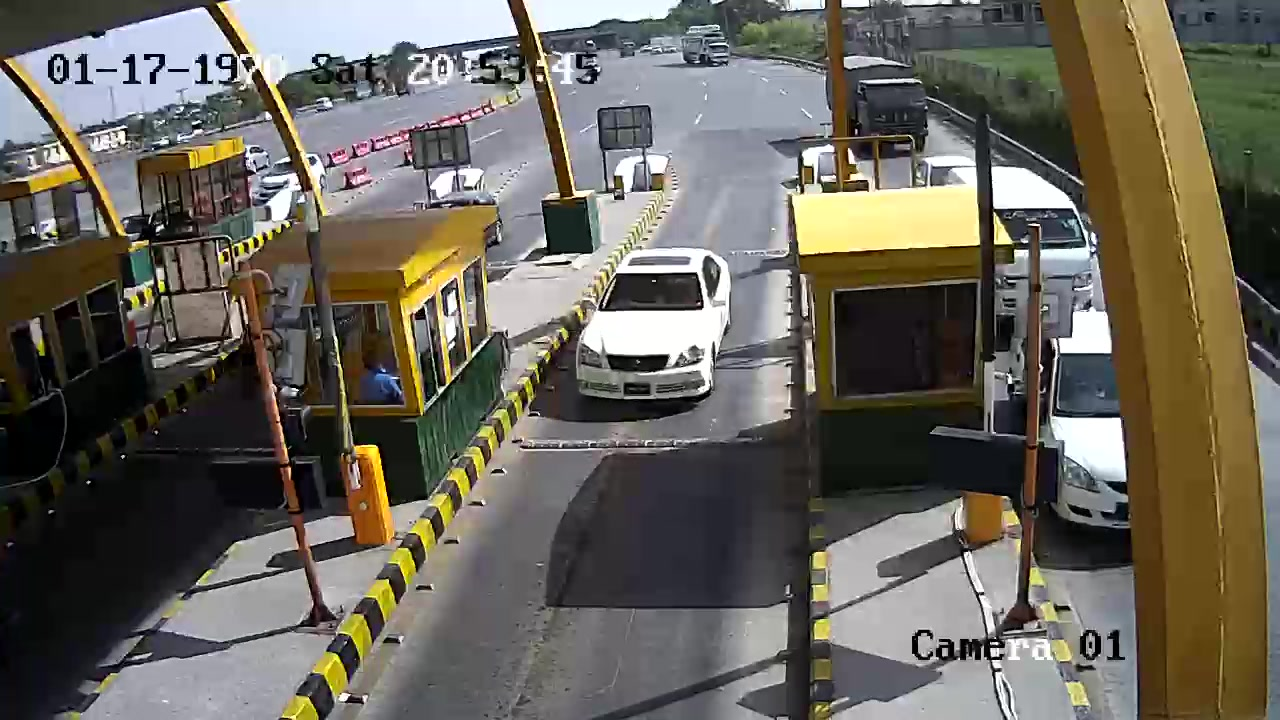F1: (564, 237, 740, 411)
